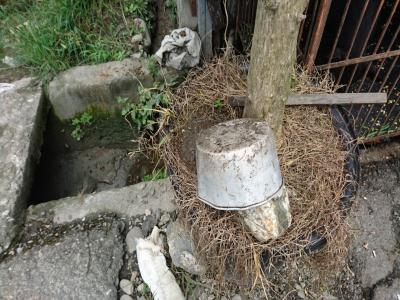bowl: (191, 117, 293, 213)
plastic_bag: (148, 23, 207, 75)
